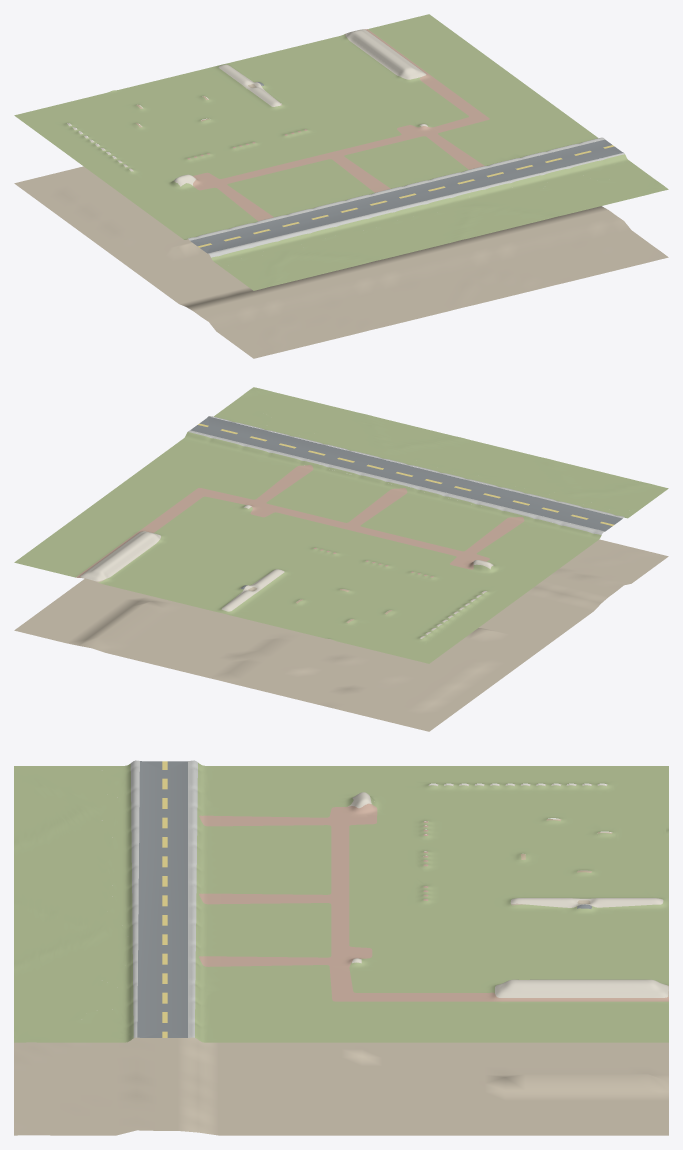
3 views of the same model, one above another, from view 1: azimuth 30°, elevation 25°; view 2: azimuth 150°, elevation 25°; view 3: azimuth 270°, elevation 25° (orthographic). The views are drawn at different scales.
Visible parts, largest first — view 1: s_-10_-1__grass, s_-10_-1__soil, s_-10_-1__asphalt, s_-10_-1__brick_paving, s_-10_-1__stone_paving, s_-10_-1__paving, s_-10_-1__yellow_marking; view 2: s_-10_-1__grass, s_-10_-1__soil, s_-10_-1__asphalt, s_-10_-1__brick_paving, s_-10_-1__stone_paving, s_-10_-1__paving, s_-10_-1__yellow_marking; view 3: s_-10_-1__grass, s_-10_-1__soil, s_-10_-1__asphalt, s_-10_-1__brick_paving, s_-10_-1__paving, s_-10_-1__stone_paving, s_-10_-1__yellow_marking.
Boxes of the visible parts, x1,y1,x2,y2 form: s_-10_-1__grass: (14,14,668,290); s_-10_-1__soil: (14,33,668,358); s_-10_-1__asphalt: (190,82,623,253); s_-10_-1__brick_paving: (187,29,489,221); s_-10_-1__stone_paving: (188,137,624,257); s_-10_-1__paving: (67,29,583,230); s_-10_-1__yellow_marking: (198,145,614,247); s_-10_-1__grass: (14,387,668,663); s_-10_-1__soil: (14,539,668,731); s_-10_-1__asphalt: (190,416,622,589); s_-10_-1__brick_paving: (76,465,524,577); s_-10_-1__stone_paving: (188,416,623,534); s_-10_-1__paving: (80,502,629,638); s_-10_-1__yellow_marking: (198,423,614,525); s_-10_-1__grass: (14,762,668,1042); s_-10_-1__soil: (14,860,668,1135); s_-10_-1__asphalt: (137,761,591,1037); s_-10_-1__brick_paving: (199,803,668,1001); s_-10_-1__paving: (81,770,668,1019); s_-10_-1__stone_paving: (130,760,197,1037); s_-10_-1__yellow_marking: (162,761,167,1037).
Bounding box in the file's own units: 128 × 22.01 × 128.
